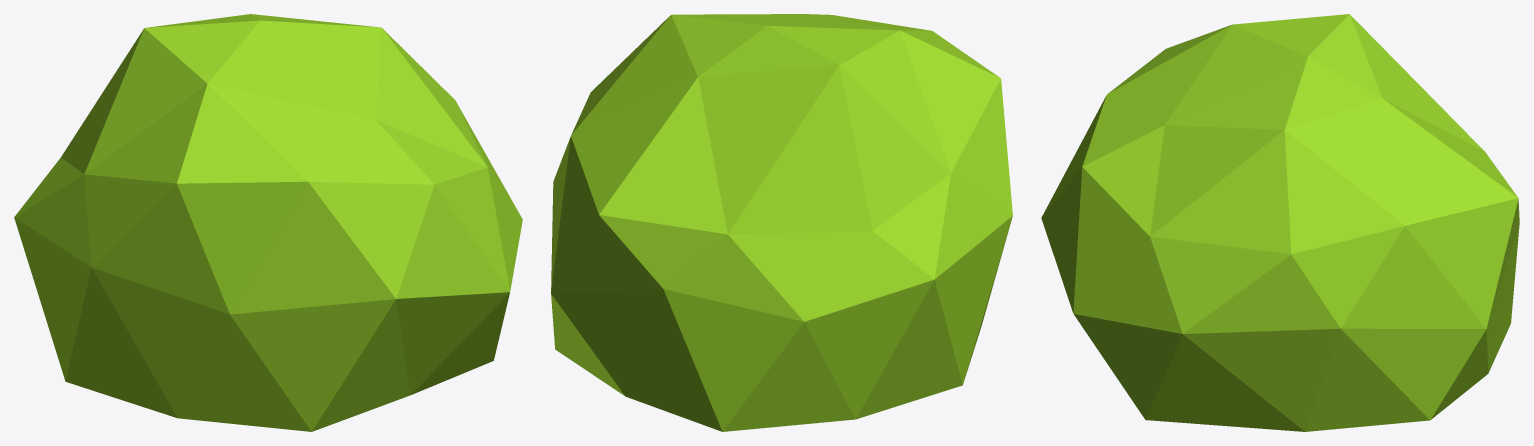
Rendered from object_landscape_bush_small.glb.
3 views of the same model, side by side, from view 1: azimuth 30°, elevation 25°; view 2: azimuth 150°, elevation 25°; view 3: azimuth 270°, elevation 25° (orthographic). The views are drawn at different scales.
Parts seen in each view (by area): view 1: object_landscape_bush_small; view 2: object_landscape_bush_small; view 3: object_landscape_bush_small.
Part boxes in pixels (x1,y1,x2,y2): object_landscape_bush_small: (14, 14, 522, 431); object_landscape_bush_small: (551, 14, 1012, 431); object_landscape_bush_small: (1041, 14, 1519, 431).
Bounding box in the file's own units: 0.1713 × 0.1266 × 0.1858.
